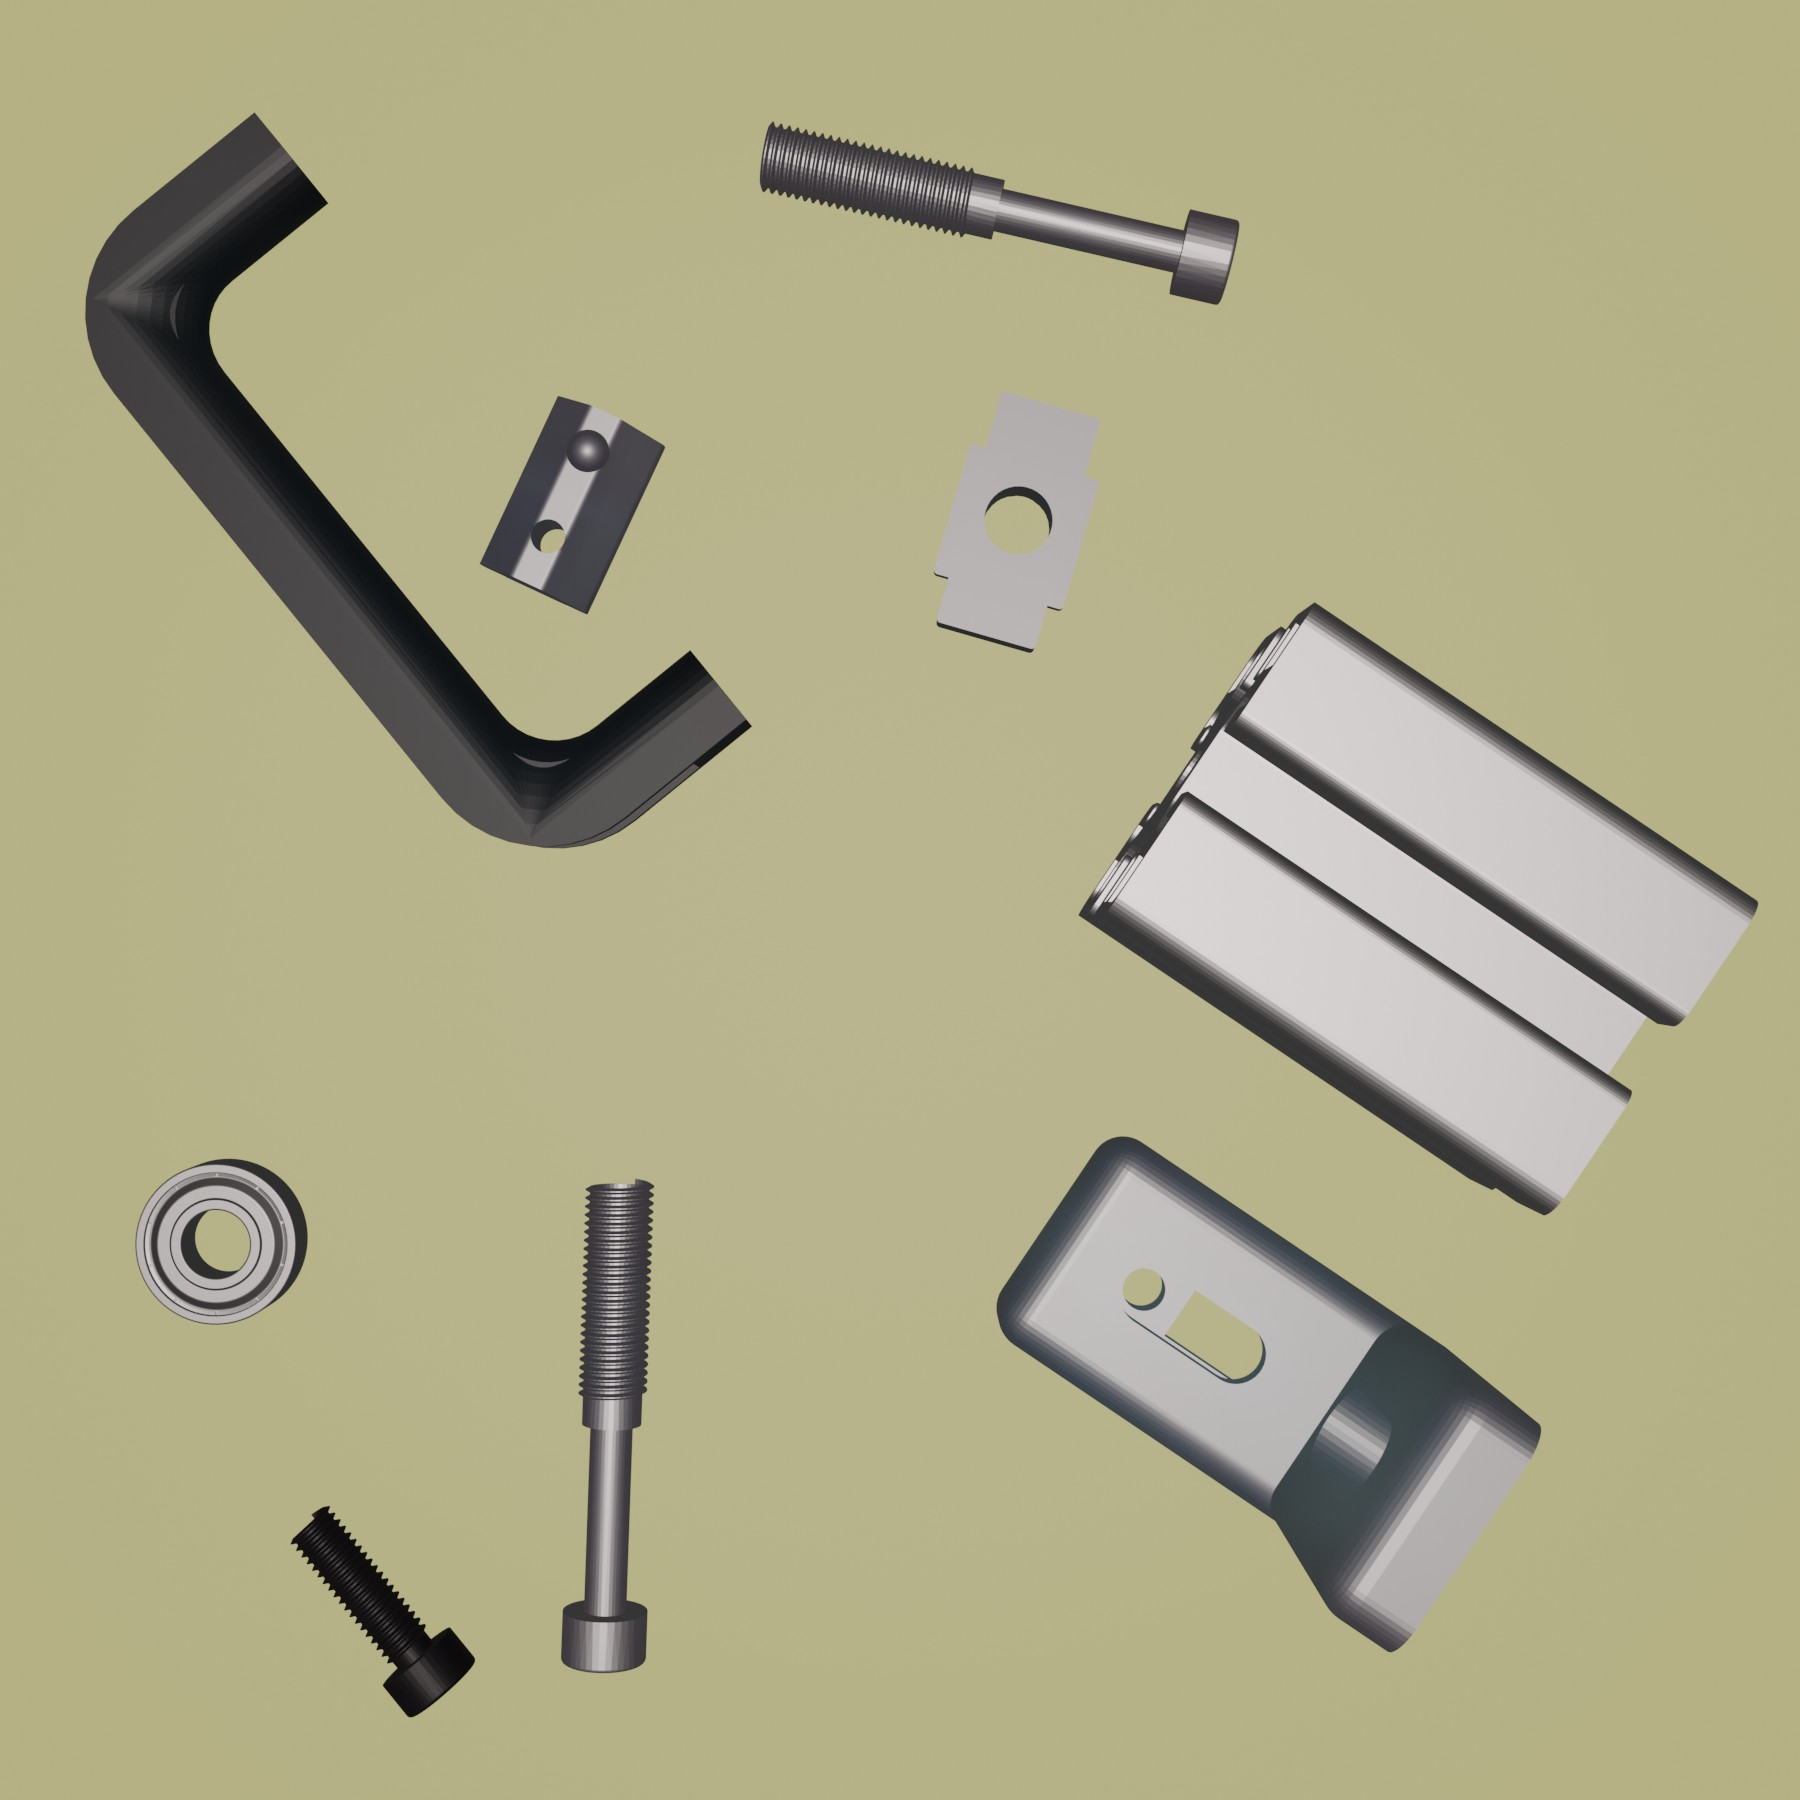Aluminium Extension: (1080, 600, 1759, 1215)
Ball Bearing: (134, 1152, 312, 1327)
Multiwinkel: (996, 1131, 1543, 1653)
Pull Handle: (82, 109, 755, 851)
Shoulder Socket Head Cap Screw: (757, 115, 1240, 308), (559, 1174, 659, 1676)
Socket Head Cap Screw: (288, 1503, 476, 1718)
T Nut Square: (931, 389, 1106, 654)
T Spring Nut: (478, 392, 669, 615)
